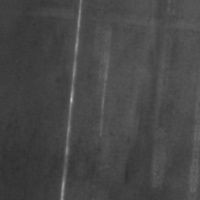scratches: (56, 0, 85, 198)
